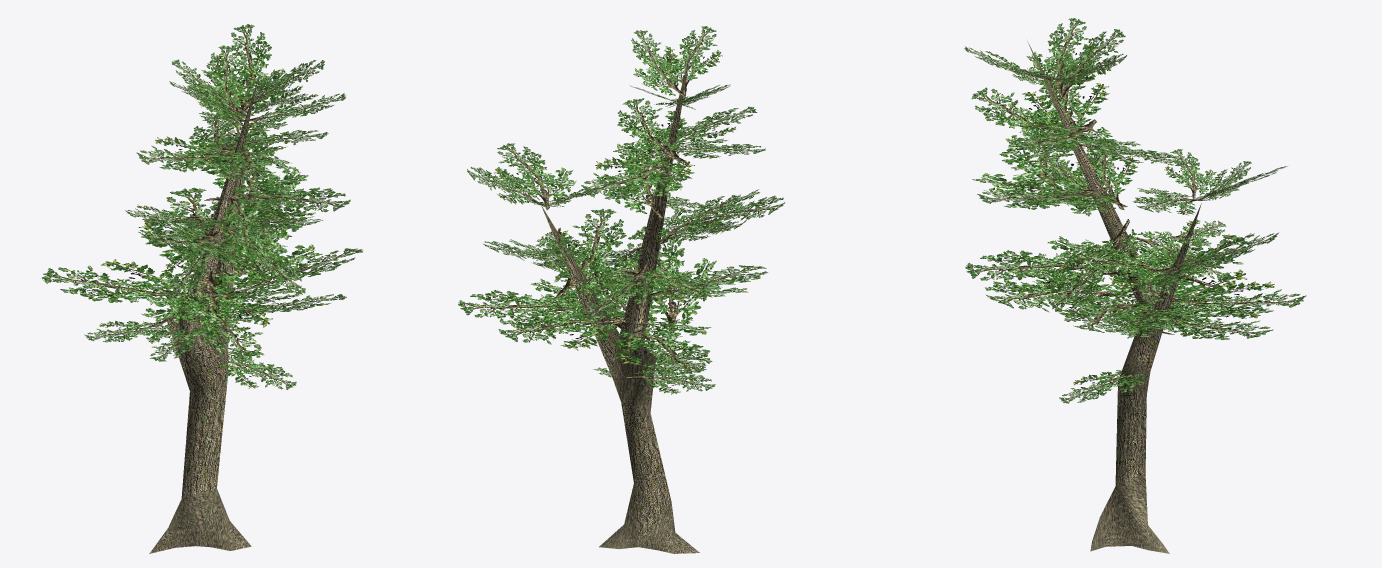
File: oak.dae
3 renders of one model, left to right at view 1: azimuth 30°, elevation 25°; view 2: azimuth 150°, elevation 25°; view 3: azimuth 270°, elevation 25°, orthographic. The views are drawn at different scales.
Visible parts, largest first — view 1: oak1; view 2: oak1; view 3: oak1.
Part boxes in pixels (x1,y1,x2,y2): oak1: (42,24,362,553); oak1: (458,26,785,553); oak1: (964,18,1306,553).
Bounding box in the file's own units: 216 × 298 × 264.
Materials: 1 (1 with a texture image).
